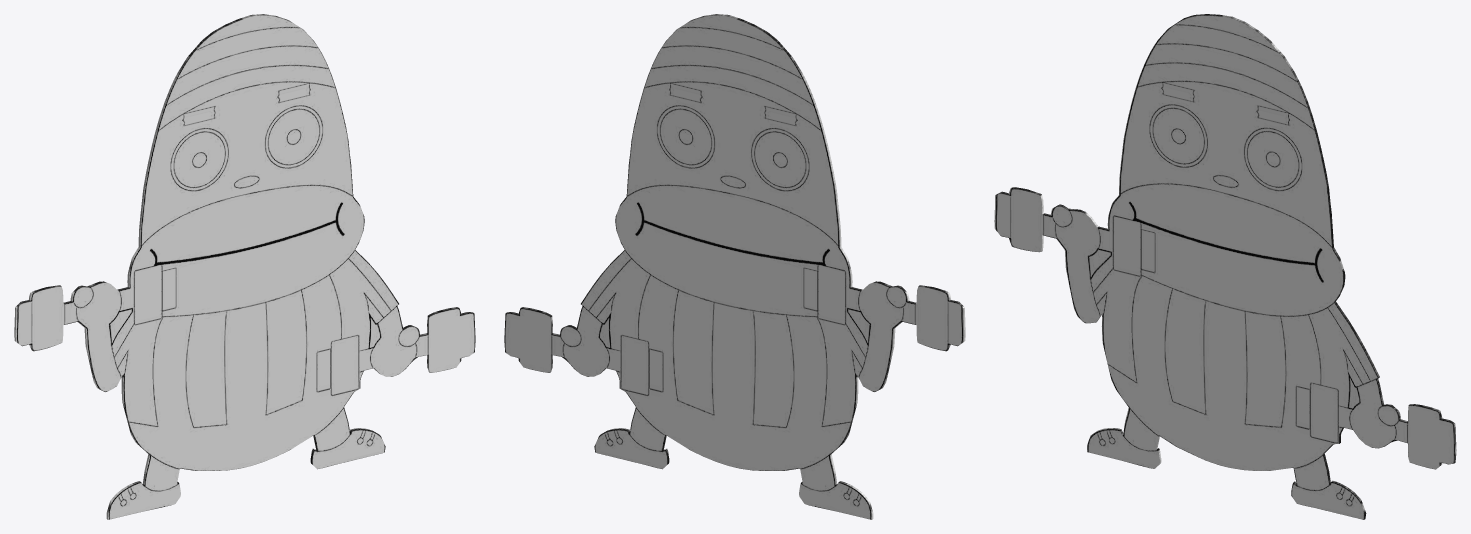
File: 45_dogle.fbx
3 views of the same model, side by side, from view 1: azimuth 30°, elevation 25°; view 2: azimuth 150°, elevation 25°; view 3: azimuth 330°, elevation 25° (orthographic).
Visible parts, largest first — view 1: planarTrimmedSurface32; view 2: planarTrimmedSurface32; view 3: planarTrimmedSurface32.
Part boxes in pixels (box(x1,y1,x2,y2)): planarTrimmedSurface32: box(14, 14, 475, 519); planarTrimmedSurface32: box(504, 14, 965, 519); planarTrimmedSurface32: box(994, 14, 1456, 519).
Bounding box in the file's own units: 34.92 × 34.08 × 0.1821.
1 material, 1 textured.
